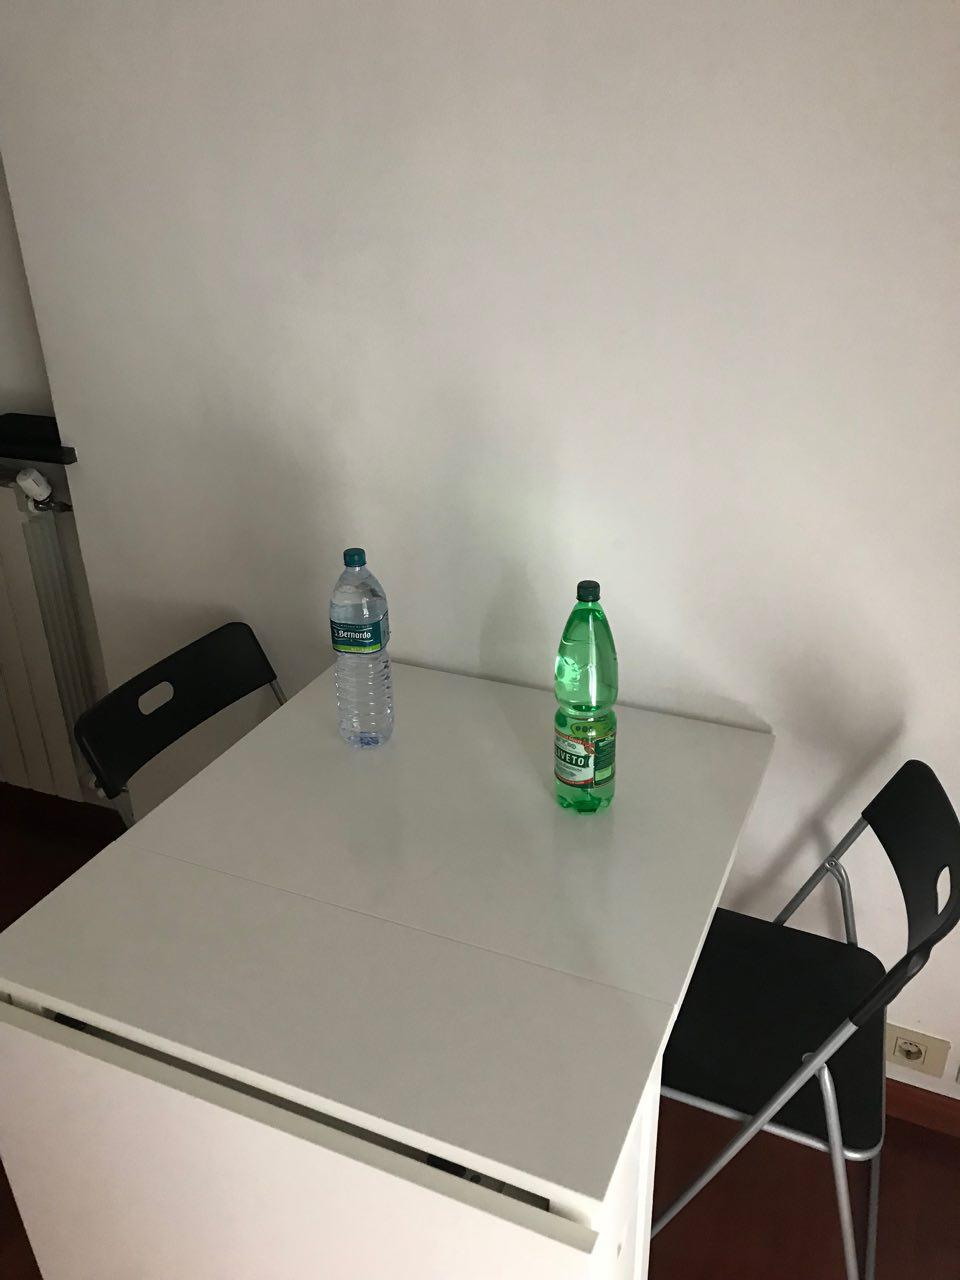san_bernardo: (329, 548, 394, 750)
